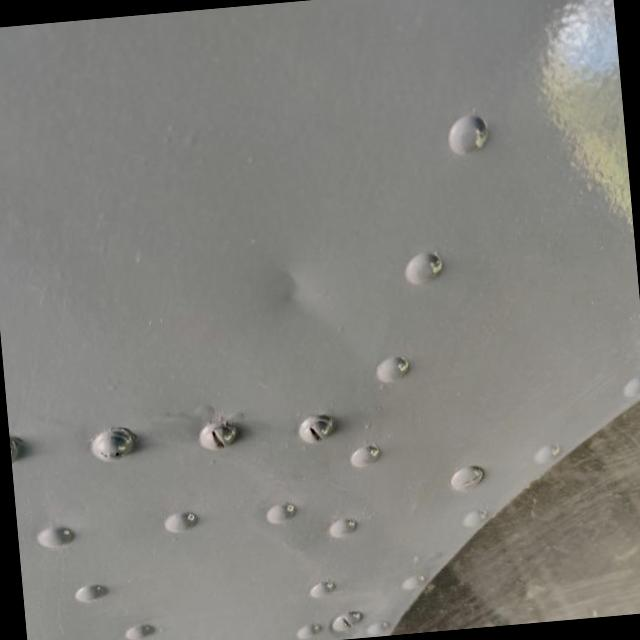dent: (253, 242, 330, 326)
